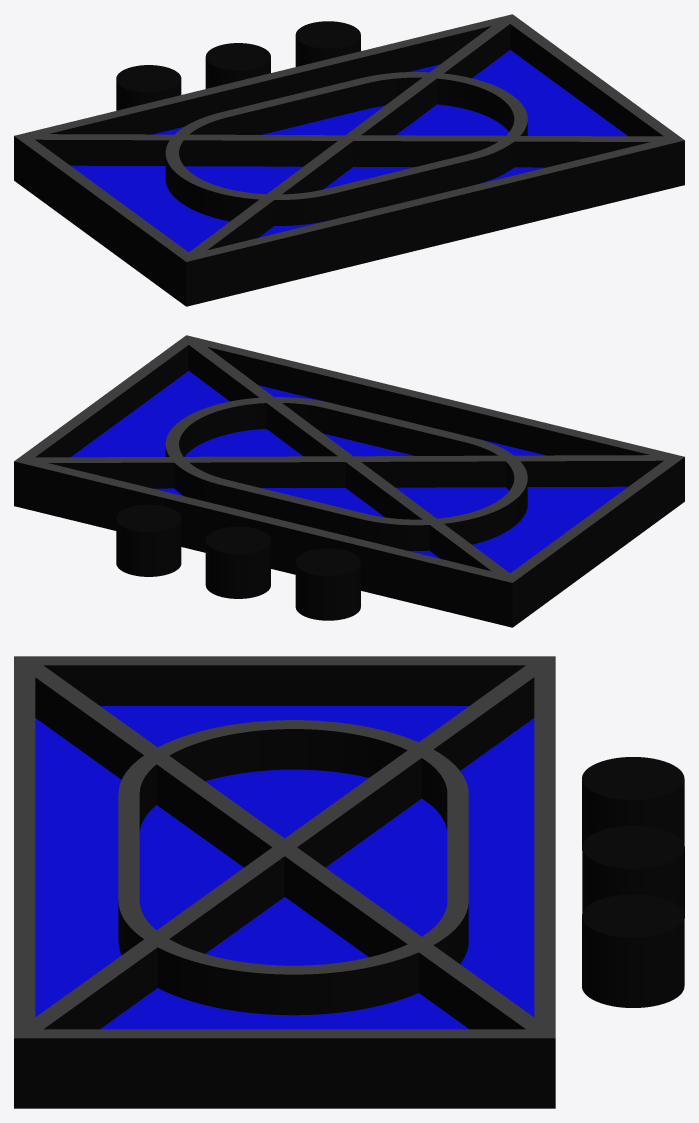
Rendered from ORBAT_FIRENDLY_MechInf_ooo.dae.
3 views of the same model, one above another, from view 1: azimuth 30°, elevation 25°; view 2: azimuth 150°, elevation 25°; view 3: azimuth 270°, elevation 25° (orthographic). The views are drawn at different scales.
Parts seen in each view (by area): view 1: SM_ORBAT_-_3_path1763-2.005; view 2: SM_ORBAT_-_3_path1763-2.005; view 3: SM_ORBAT_-_3_path1763-2.005.
Boxes of the visible parts, bbox=[...] form: SM_ORBAT_-_3_path1763-2.005: bbox=[14, 14, 684, 306]; SM_ORBAT_-_3_path1763-2.005: bbox=[14, 335, 684, 627]; SM_ORBAT_-_3_path1763-2.005: bbox=[14, 656, 684, 1108].
Size of the model in its own units: 1.21 by 0.8948 by 0.1034.
